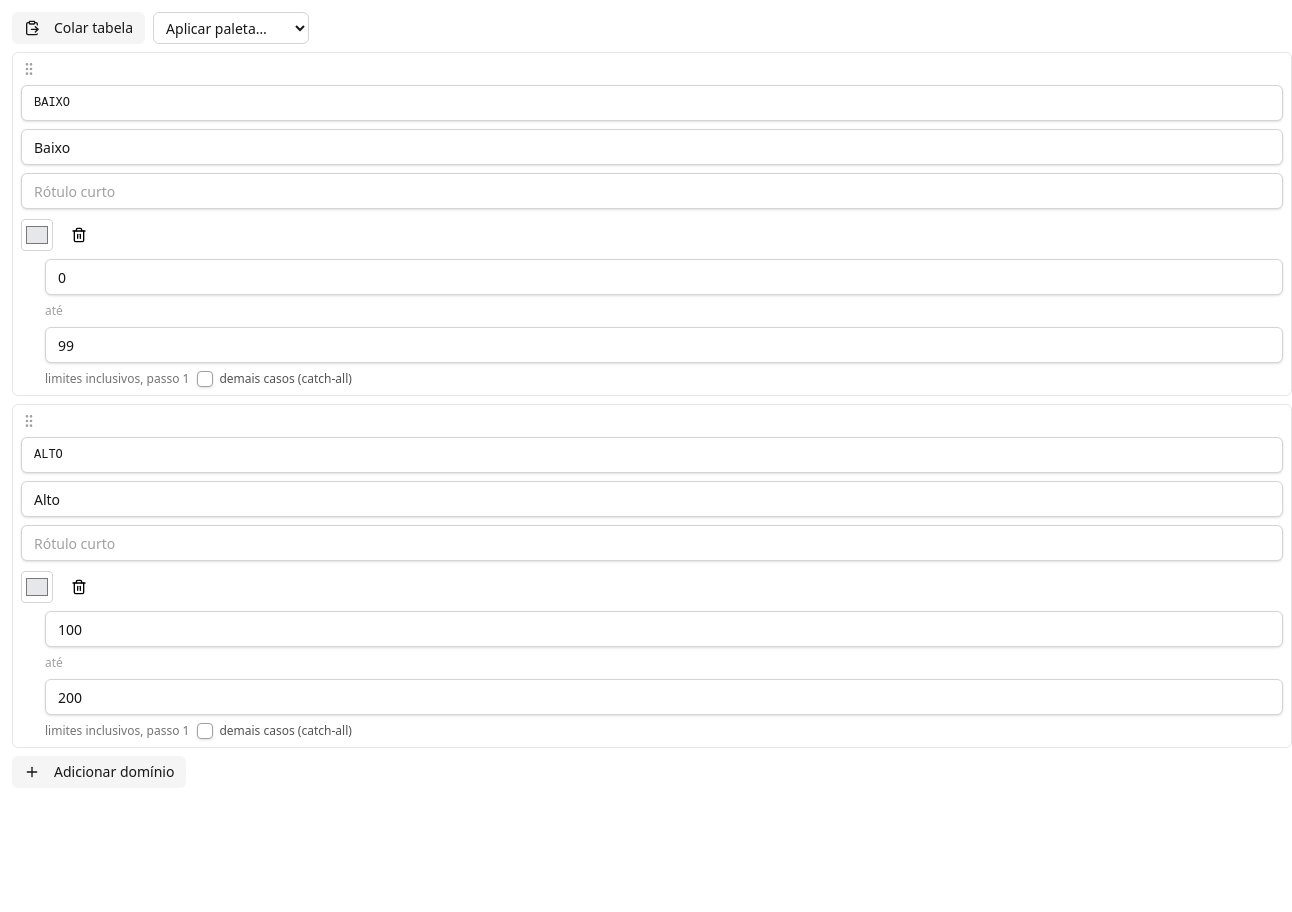
Test: DomainsEditor — validação de contiguidade em tempo real › mostra o erro de contiguidade assim que um buraco é digitado, sem recarregar
The width and height of the screenshot is (1292, 912).
Replace the text in the 1st field named "Máximo" with "50" at x=664, y=345, box [45,327,1283,363]
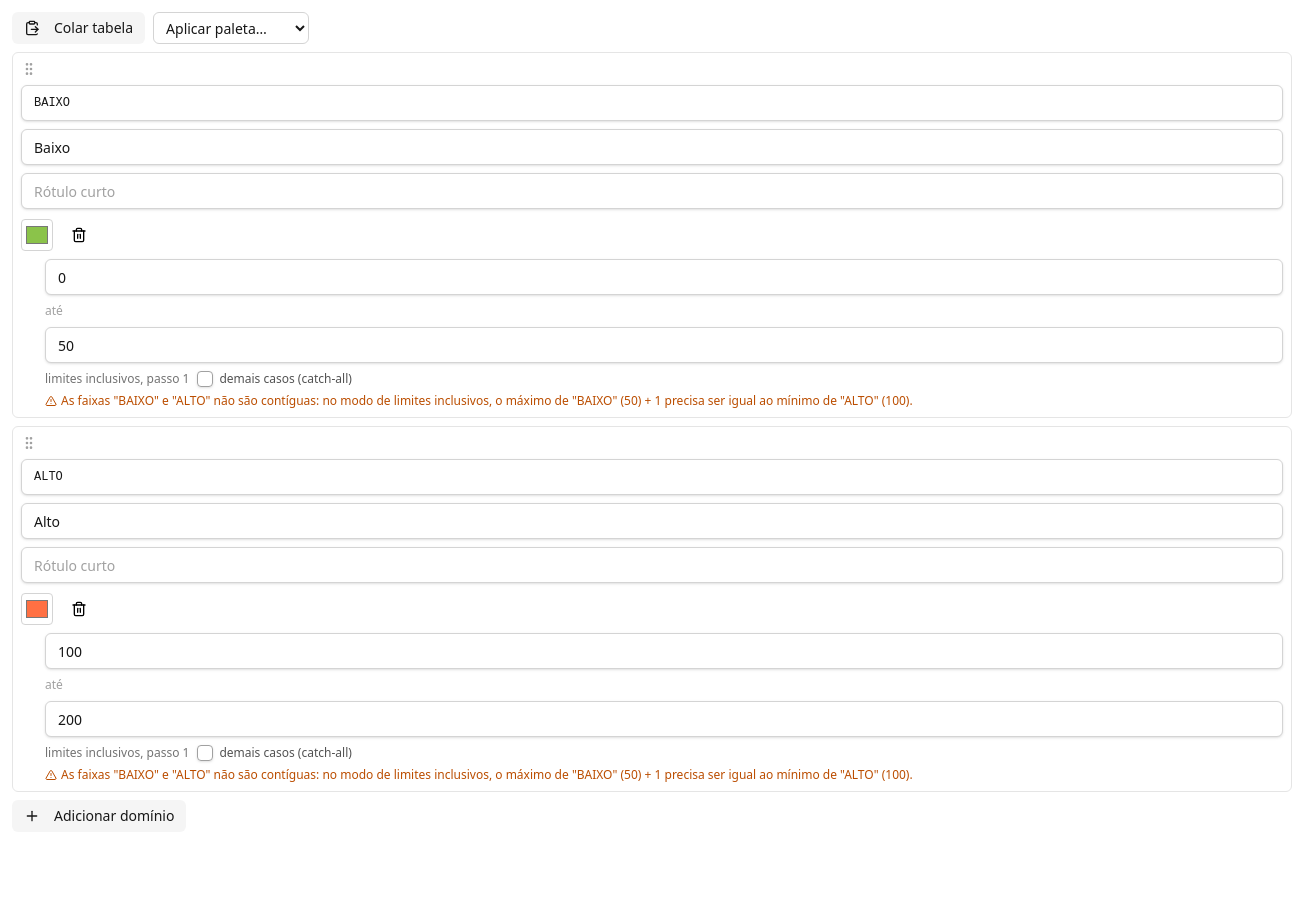
Check: the 1st list item "\"BAIXO\" e \"ALTO\" não são contíguas" is shown, box [61,392,913,409]
